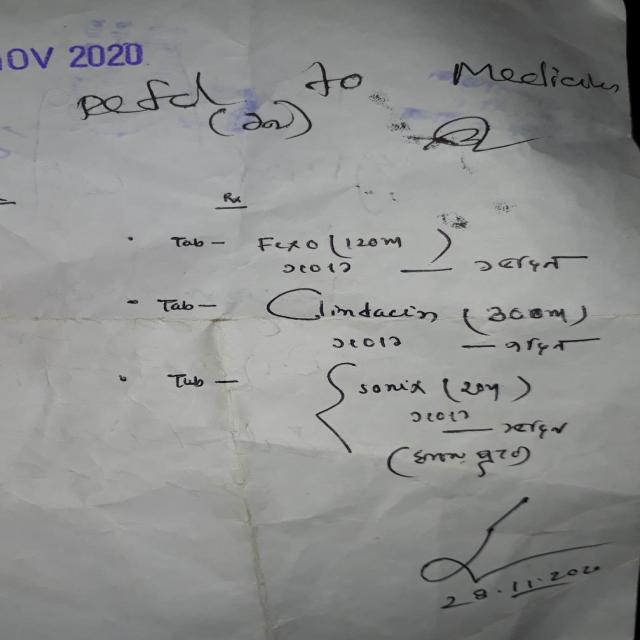Clindacin: (256, 287, 445, 329)
Esonix: (313, 362, 434, 404)
Fexo: (248, 232, 334, 258)
